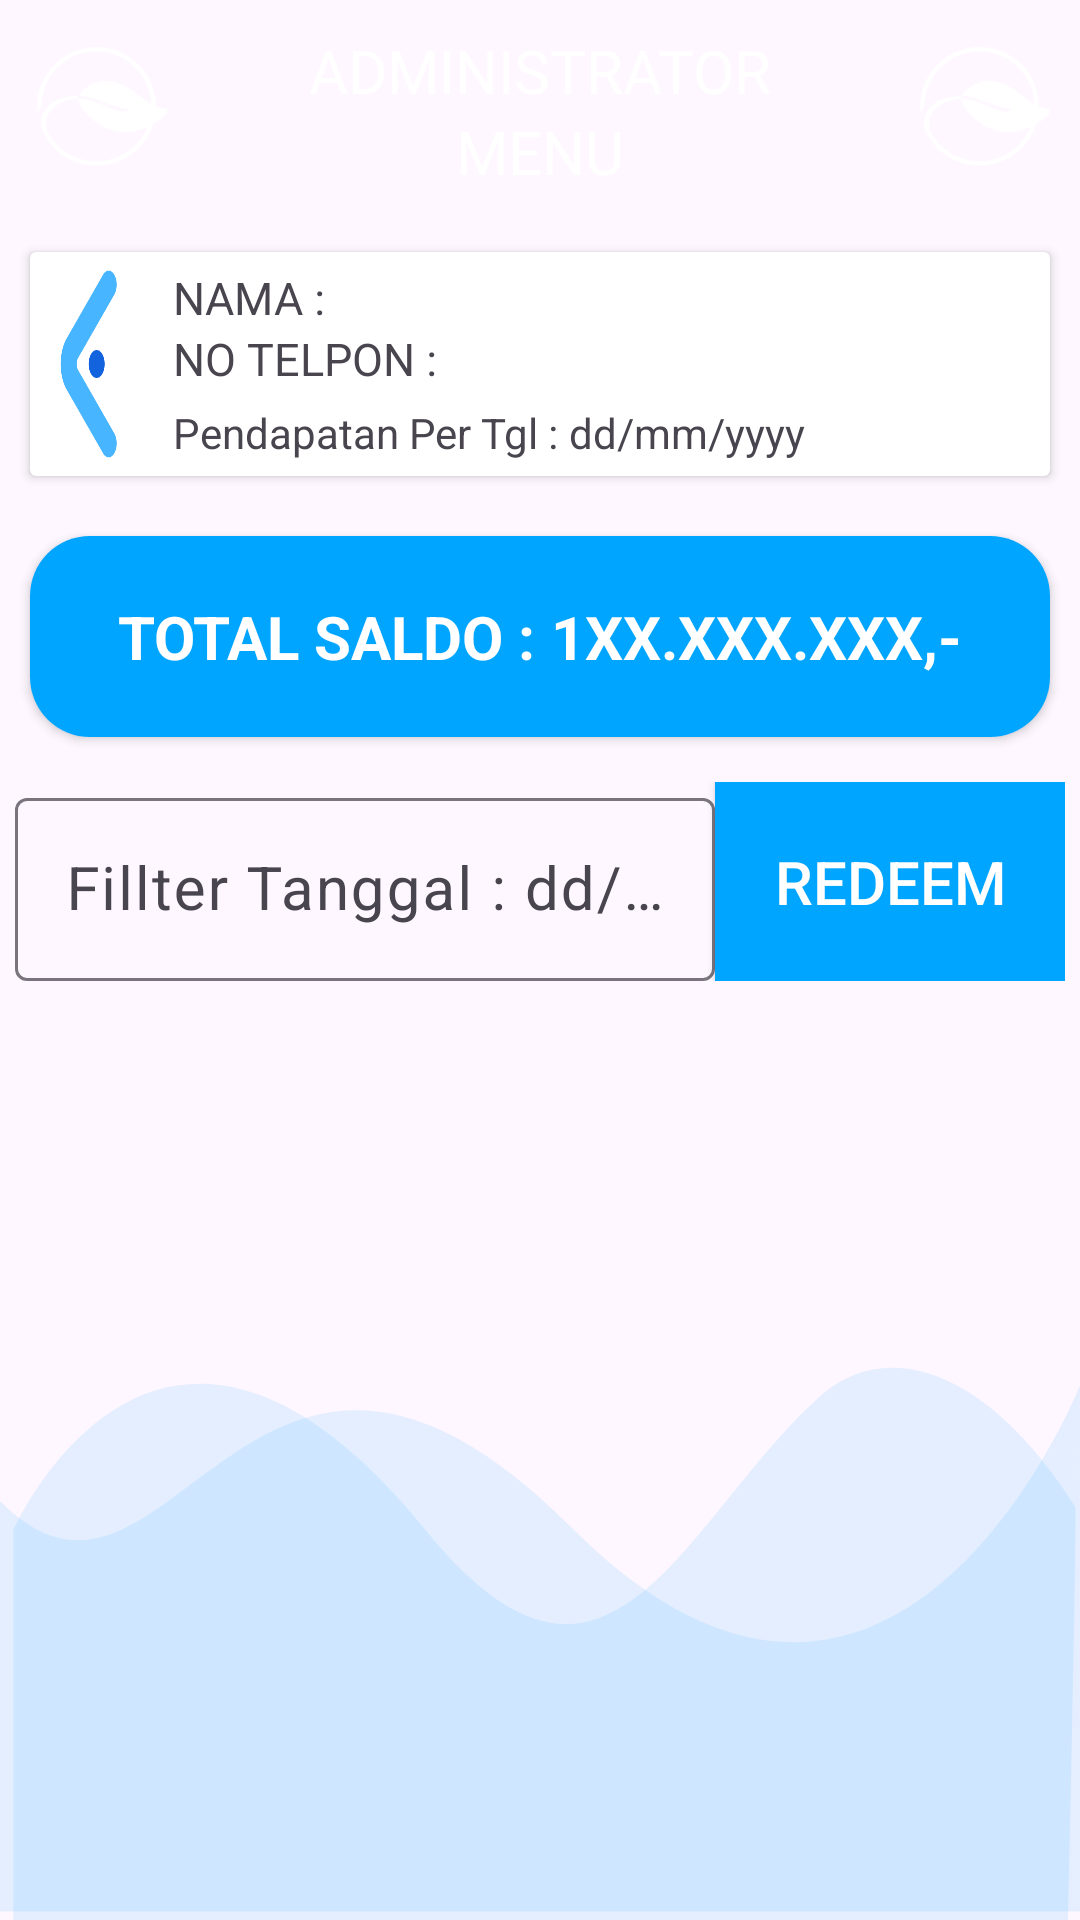

Icon bounding boxes for this 1080×1920 phone screenshot, format region(x1, y1, x2, y2):
back: region(60, 270, 117, 458)
